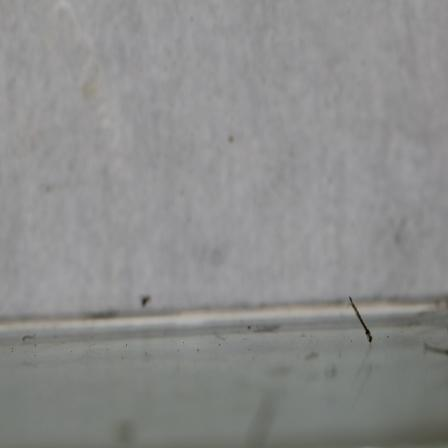Jentik-Nyamuk: (346, 295, 375, 345)
